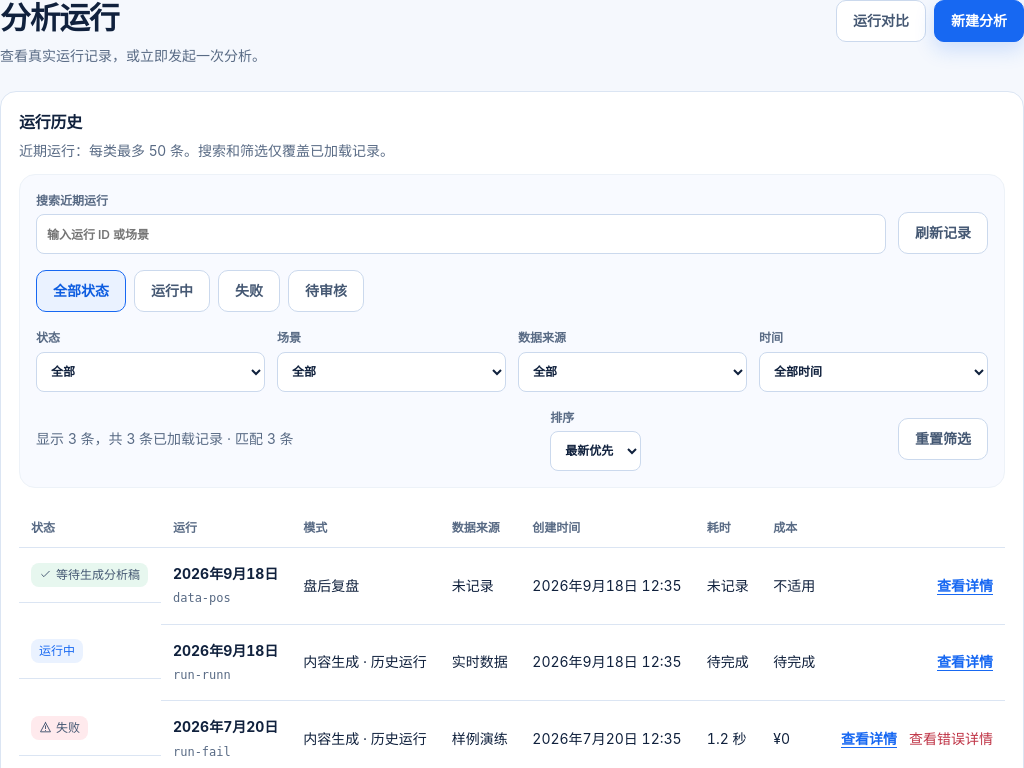
Test: renders a scan-friendly run table and filters status
The width and height of the screenshot is (1024, 768).
Expected: the text titled "run-running" is shown, 173,668 -> 231,682
Expected: the element named "运行筛选" is shown, 19,174 -> 1005,488
Select "失败" in the dropdown named "按状态筛选" at [150, 372], box 36,352 -> 265,392
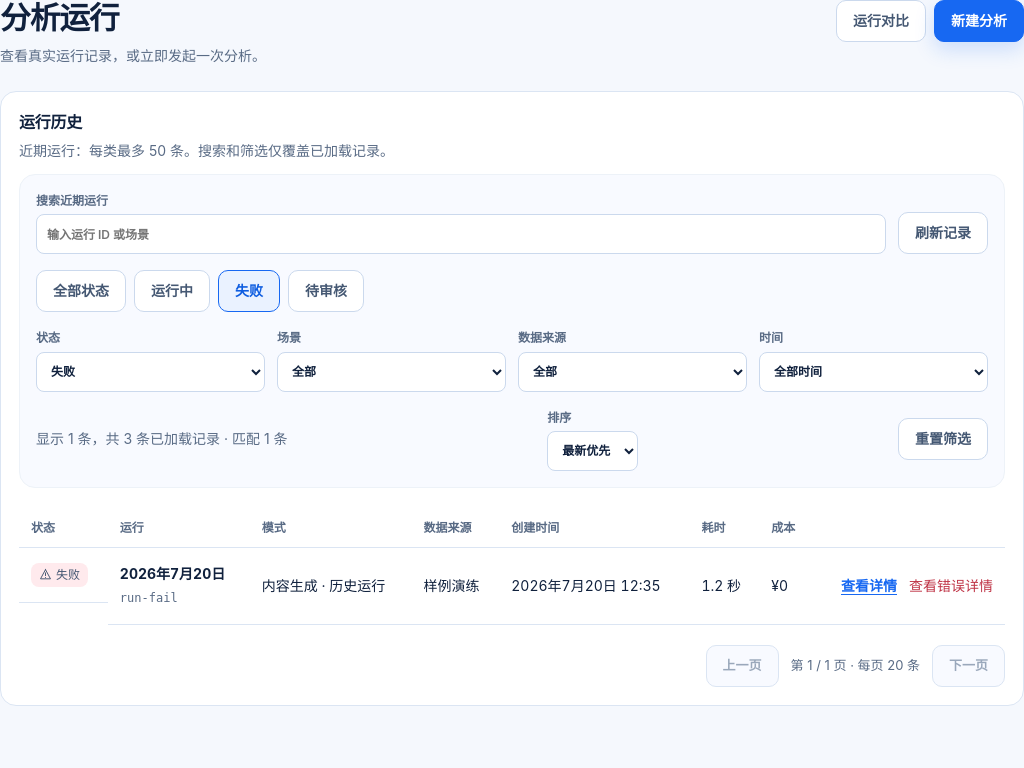
Expected: the text titled "run-failed" is shown, 120,591 -> 178,605
Result: the text titled "run-running" is gone
